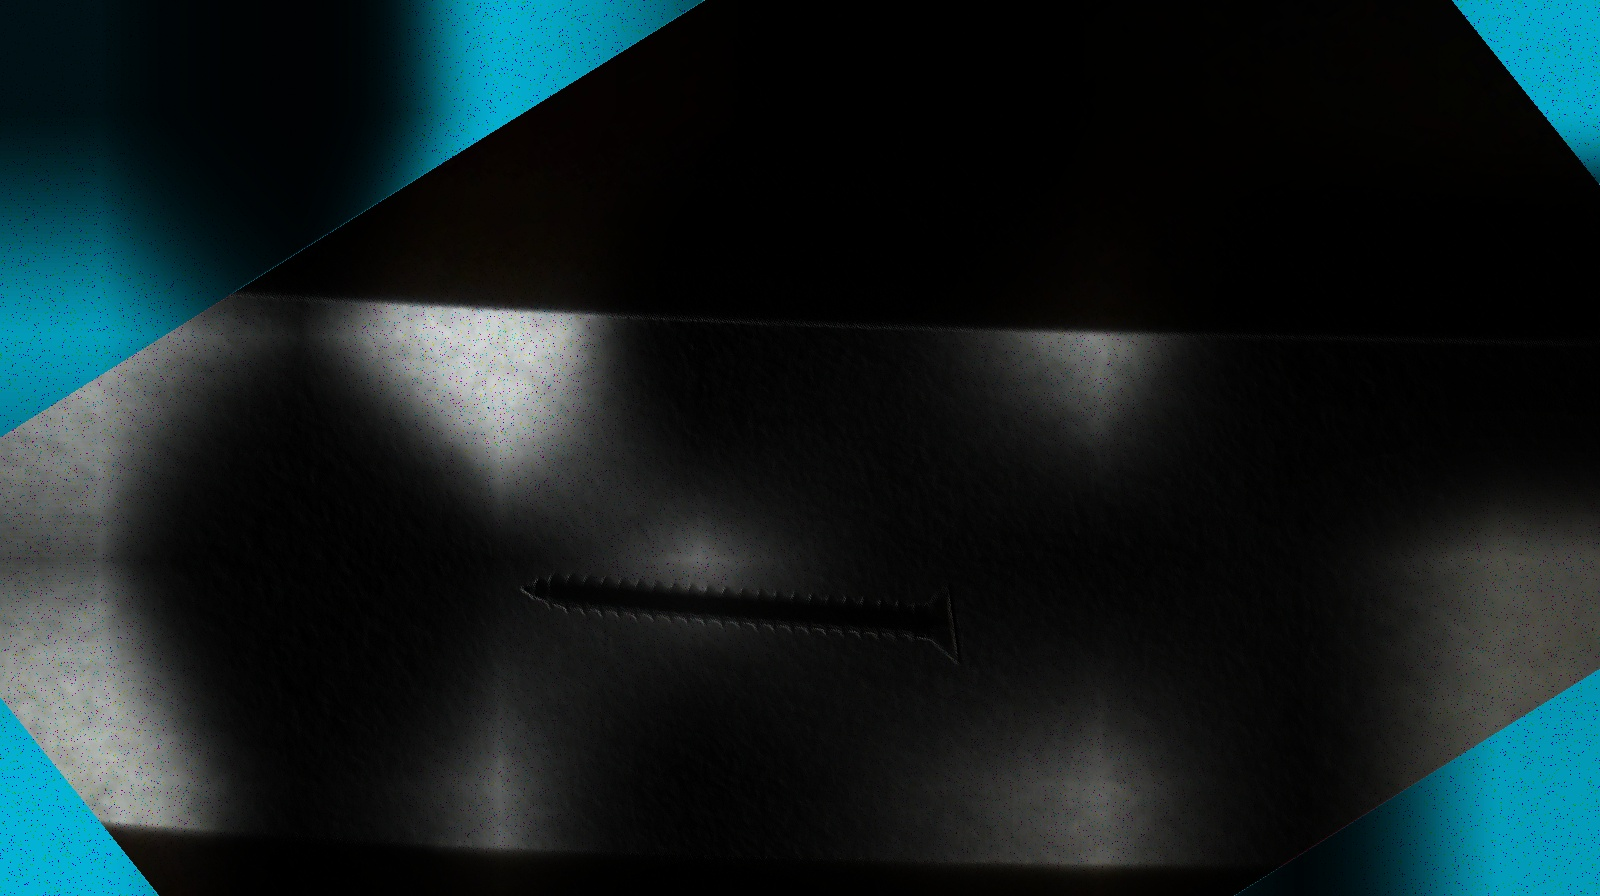S002: (505, 398, 1002, 829)
